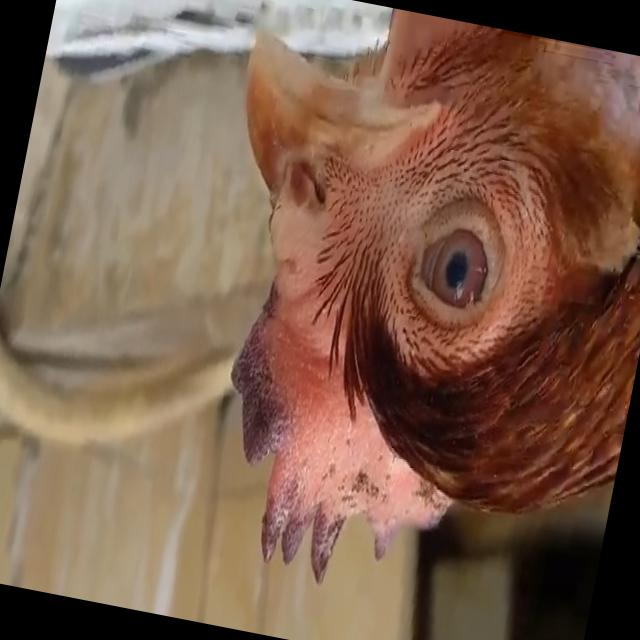bird flu: (146, 0, 640, 634)
